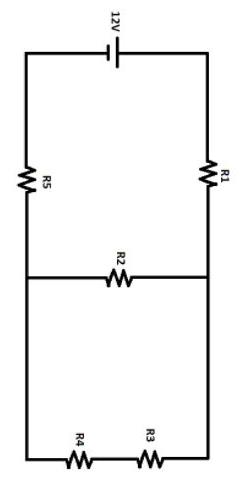resistor: (40, 444, 107, 469), (77, 265, 143, 287), (129, 447, 178, 470), (191, 149, 216, 189), (18, 153, 36, 197)
